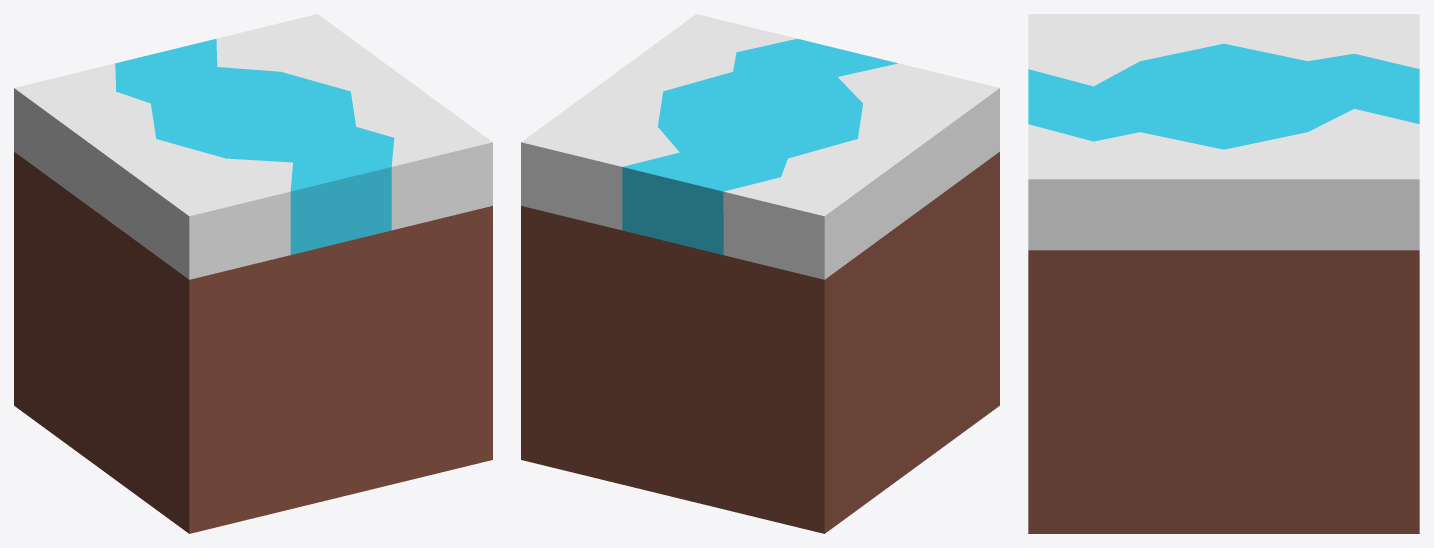
3 views of the same model, side by side, from view 1: azimuth 30°, elevation 25°; view 2: azimuth 150°, elevation 25°; view 3: azimuth 270°, elevation 25° (orthographic). The views are drawn at different scales.
Visible parts, largest first — view 1: Ground_River_MiniLake; view 2: Ground_River_MiniLake; view 3: Ground_River_MiniLake.
Boxes of the visible parts, box(x1,y1,x2,y2) form: Ground_River_MiniLake: box(14, 14, 492, 533); Ground_River_MiniLake: box(521, 14, 999, 533); Ground_River_MiniLake: box(1028, 14, 1419, 533).
Size of the model in its own units: 2 by 2 by 2.
1 material, 1 textured.
